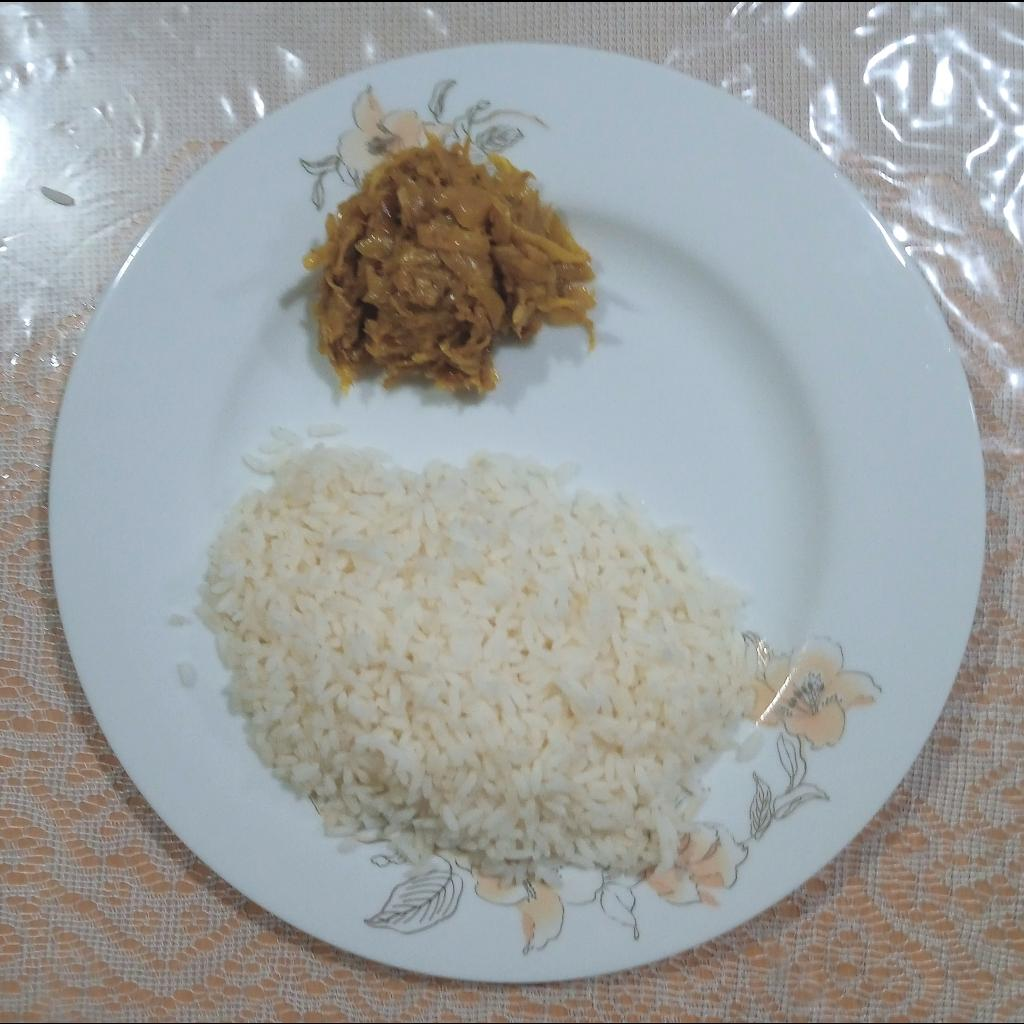cabbage: (301, 132, 598, 395)
rice: (194, 426, 767, 884)
